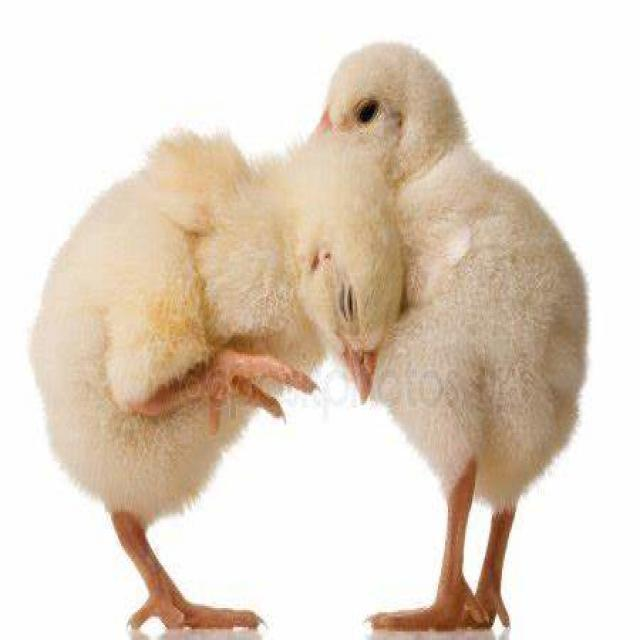poussin: (28, 140, 400, 635), (316, 41, 590, 630)
